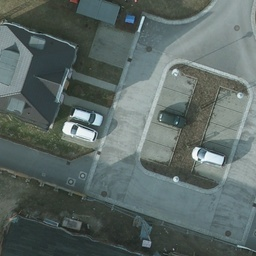car: (193, 144, 226, 168), (60, 121, 97, 140), (158, 109, 187, 130), (72, 109, 102, 127)
